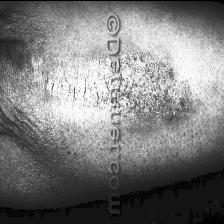Non-Cancerous Skin Condition: (37, 40, 200, 134)
